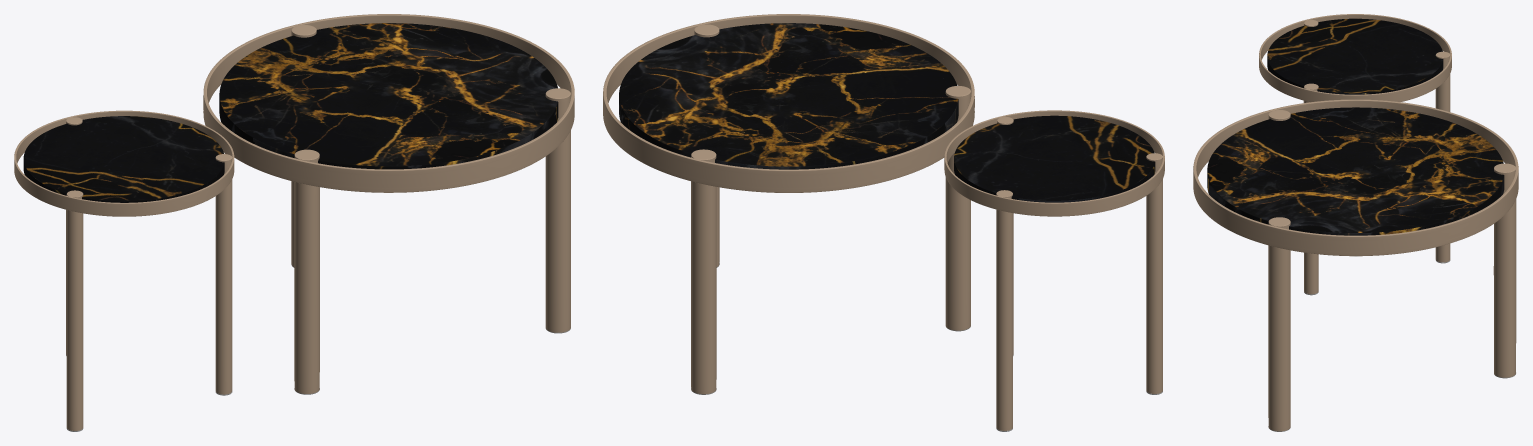
Rendered from SLN_NEO.glb.
The picture shows the model from 3 angles, left to right: view 1: azimuth 30°, elevation 25°; view 2: azimuth 150°, elevation 25°; view 3: azimuth 270°, elevation 25°; orthographic projection. The views are drawn at different scales.
Visible parts, largest first — view 1: NEO; view 2: NEO; view 3: NEO.
Part boxes in pixels (x1,y1,x2,y2): NEO: (14, 14, 574, 431); NEO: (603, 14, 1164, 431); NEO: (1193, 14, 1518, 431).
Bounding box in the file's own units: 1.22 × 0.5251 × 0.7523.
3 materials, 2 textured.
